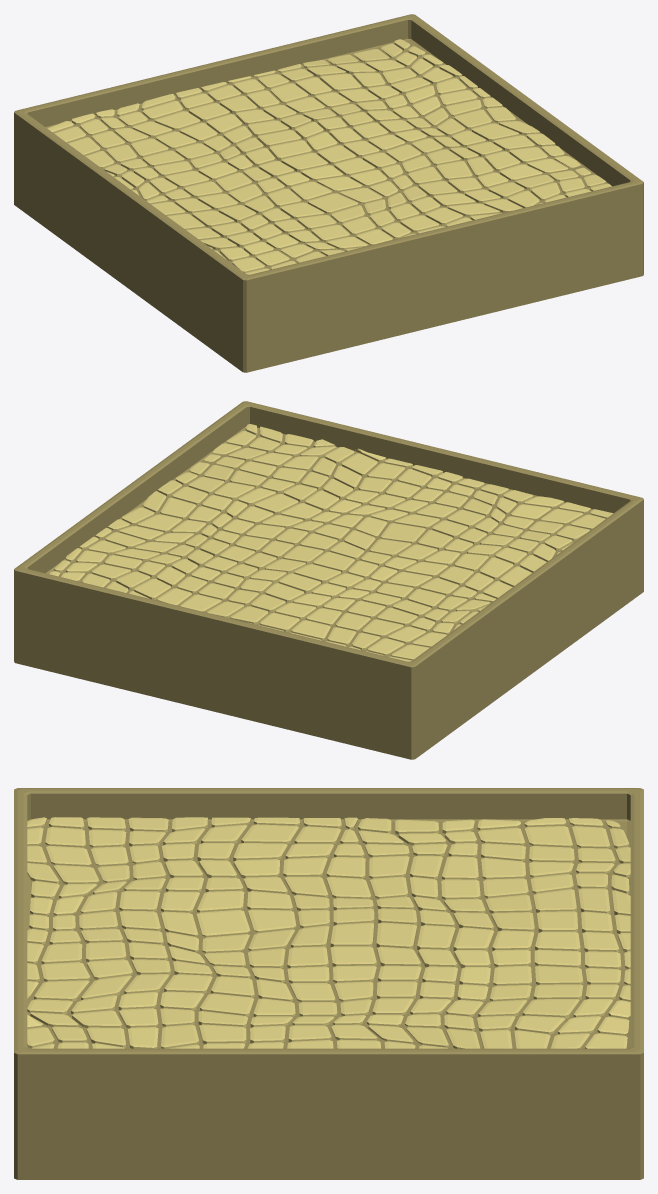
File: rooftop_complex.glb
The picture shows the model from 3 angles, top to bottom: view 1: azimuth 30°, elevation 25°; view 2: azimuth 150°, elevation 25°; view 3: azimuth 270°, elevation 25°; orthographic projection. The views are drawn at different scales.
Visible parts, largest first — view 1: Cube, Plane; view 2: Cube, Plane; view 3: Plane, Cube.
Part boxes in pixels (<box>): Cube: <box>14,14,643,372</box>; Plane: <box>47,39,611,274</box>; Cube: <box>14,401,643,759</box>; Plane: <box>49,424,613,661</box>; Plane: <box>27,817,630,1048</box>; Cube: <box>14,788,643,1179</box>.
Size of the model in its own units: 20 by 4.43 by 20.
